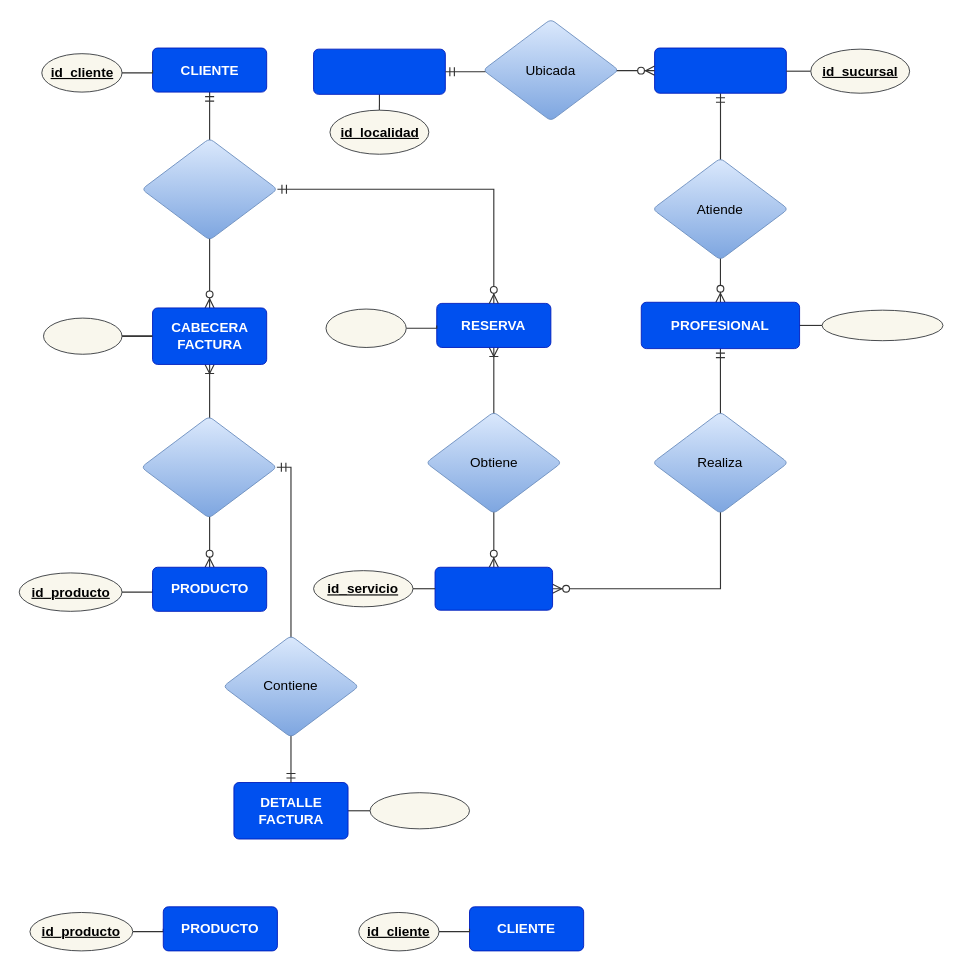
Image size: 964x972. Some labels were removed from this diagram. Here are the shapes that lost their labels. From the top down, the centre of each, then its label:
At point (379, 71): "LOCALIDAD".
At point (720, 70): "SUCURSAL".
At point (209, 188): "Paga".
At point (82, 335): "id_factura".
At point (365, 327): "id_reserva".
At point (882, 325): "legajo".
At point (208, 466): "Adquiere".
At point (493, 588): "SERVICIO".
At point (419, 810): "id_detalle".
